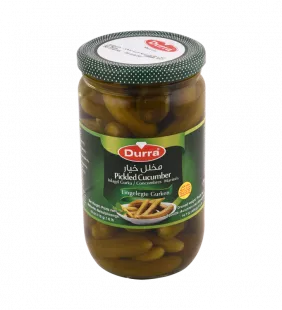DURRA: (68, 20, 212, 289)
